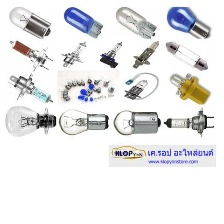light_bulb: (3, 103, 58, 139), (6, 72, 57, 107), (162, 106, 216, 137), (165, 5, 211, 40), (164, 71, 211, 105), (162, 38, 209, 72), (7, 5, 53, 39), (57, 108, 110, 137), (113, 5, 157, 39), (61, 5, 104, 39), (5, 38, 50, 70), (110, 108, 161, 135), (131, 40, 160, 70), (61, 39, 89, 66), (99, 38, 124, 68), (122, 77, 151, 102)
